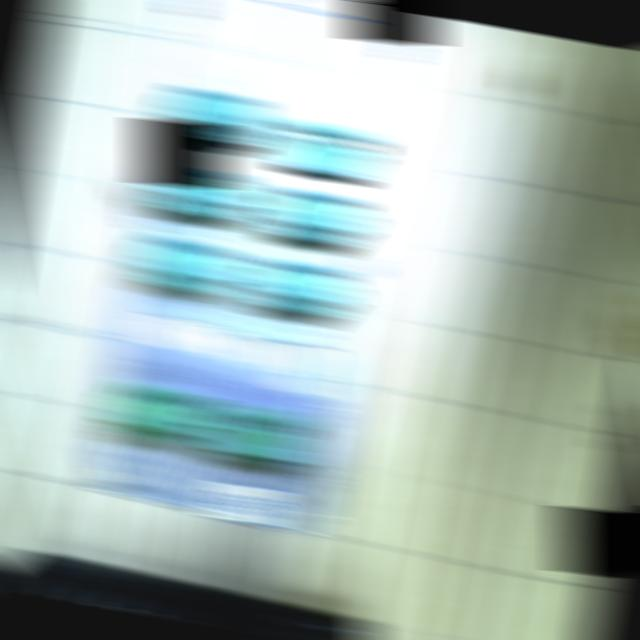Terminal_1: (103, 378, 210, 446), (206, 402, 310, 470)
Terminal_2: (132, 230, 235, 297), (160, 82, 264, 147), (146, 156, 248, 222), (250, 253, 349, 319), (264, 182, 363, 248)
